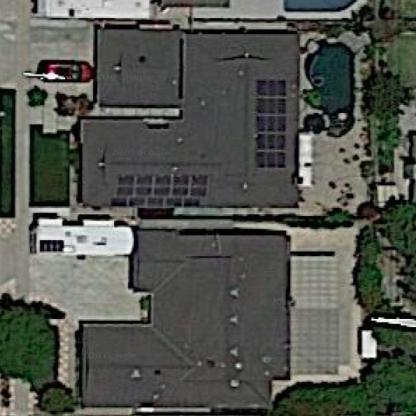car: (32, 203, 135, 263), (36, 57, 95, 89)
solar_panel: (109, 167, 214, 208), (255, 76, 289, 171)
swimming_pool: (297, 33, 366, 138)
